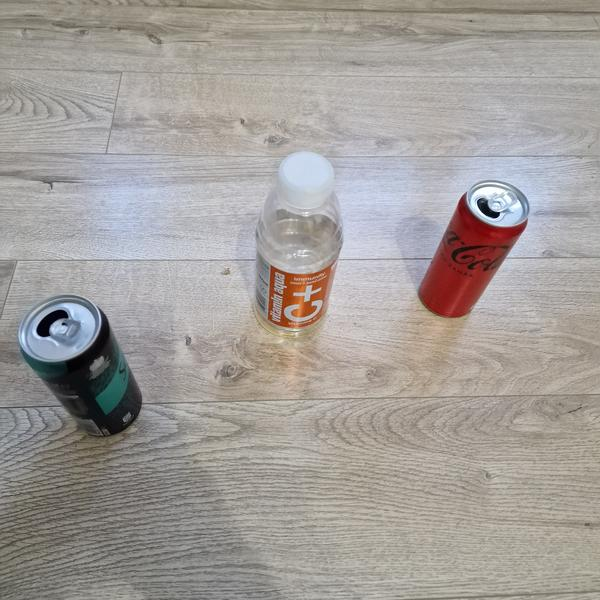can: (4, 279, 155, 457), (406, 164, 541, 333)
plastic_bottle: (242, 144, 355, 351)
